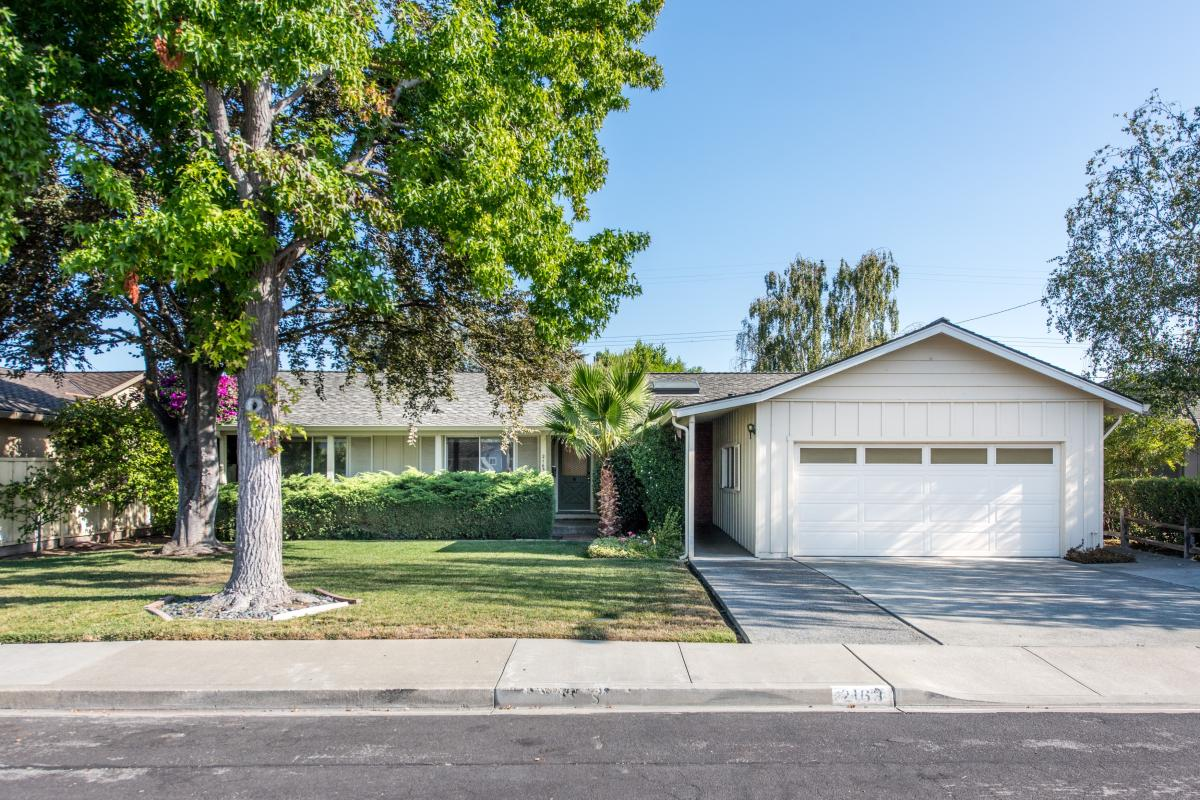tree: (1, 1, 665, 624)
